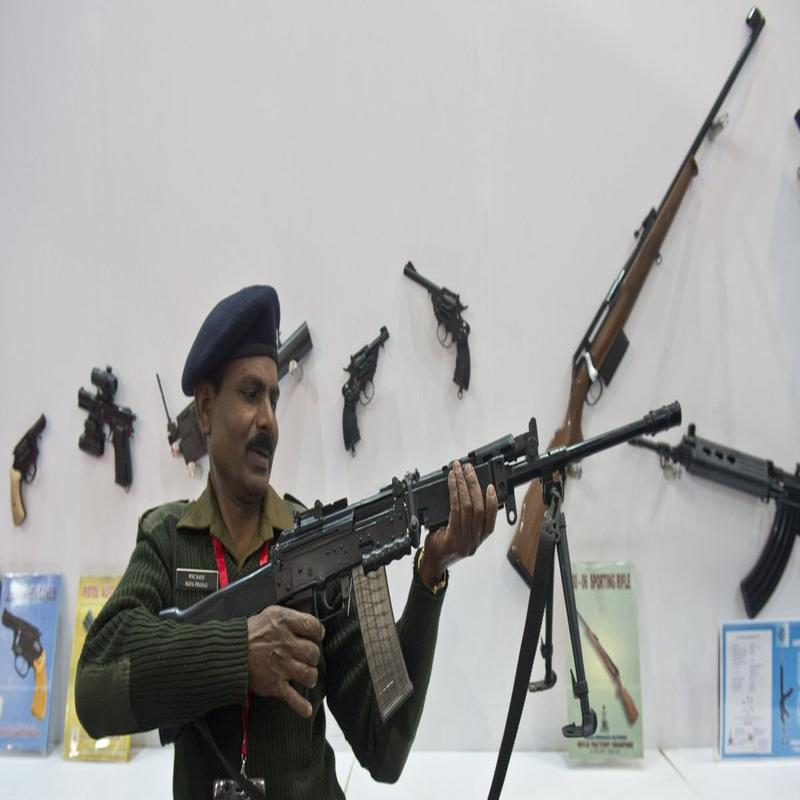GUN: (136, 379, 691, 726)
